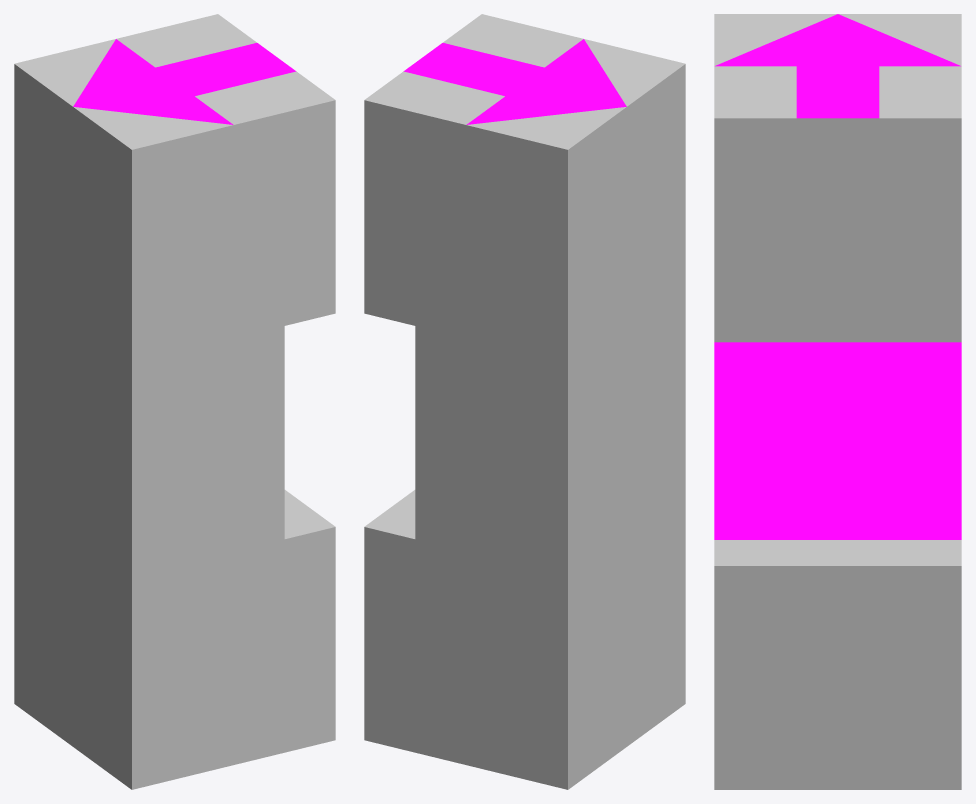
The picture shows the model from 3 angles, left to right: view 1: azimuth 30°, elevation 25°; view 2: azimuth 150°, elevation 25°; view 3: azimuth 270°, elevation 25°; orthographic projection. The views are drawn at different scales.
Visible parts, largest first — view 1: Cube; view 2: Cube; view 3: Cube.
Boxes of the visible parts, x1,y1,x2,y2 form: Cube: (14, 14, 335, 789); Cube: (364, 14, 685, 789); Cube: (714, 14, 961, 789).
Size of the model in its own units: 1 by 3 by 1.
